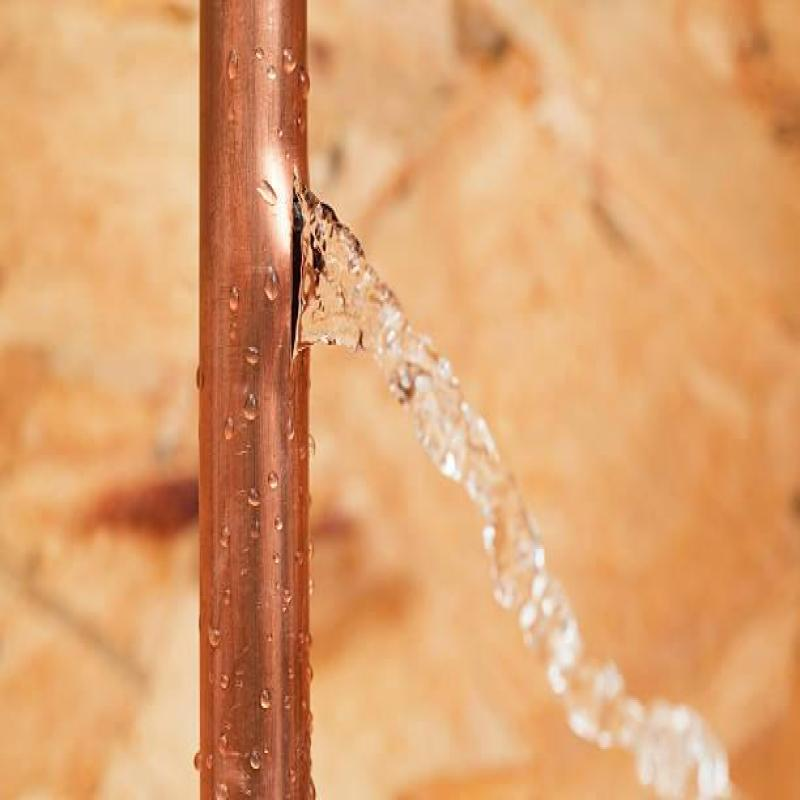Fracture: (279, 147, 461, 502)
